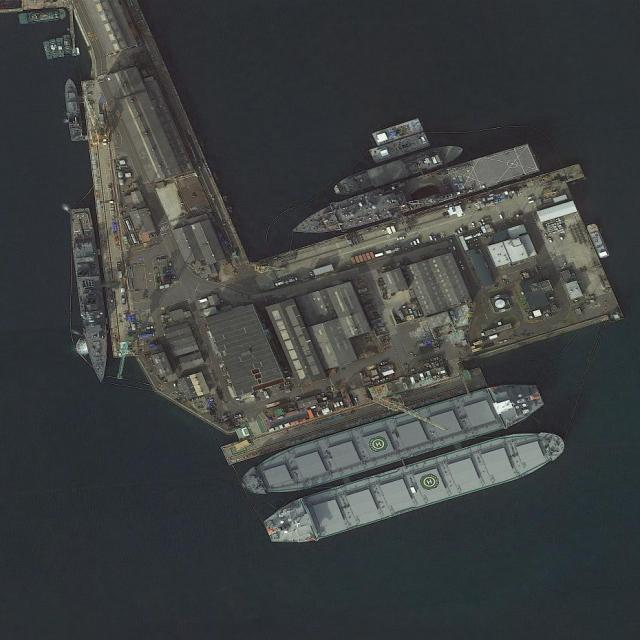Auxiliary Ships: (233, 370, 549, 509), (258, 416, 570, 556)
Landing: (286, 138, 543, 250)
Other Ship: (330, 140, 466, 199), (19, 6, 68, 25), (63, 35, 72, 56), (56, 38, 65, 57), (50, 39, 59, 58), (44, 41, 52, 60)
Other Warship: (66, 208, 116, 385), (63, 76, 85, 143)
